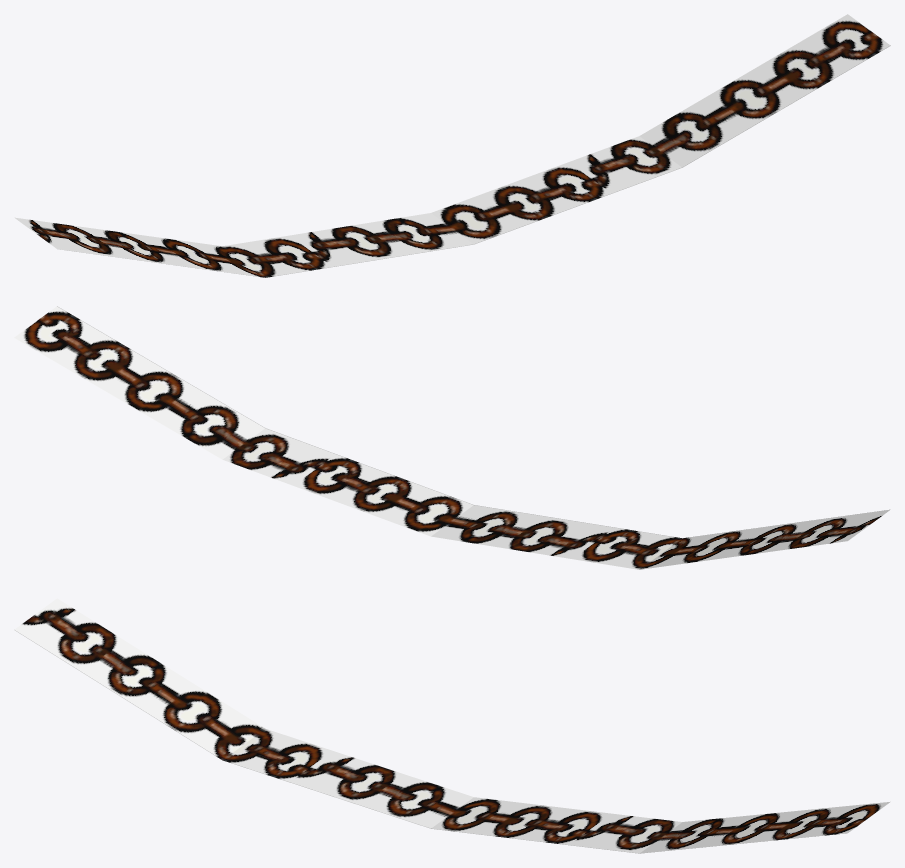
File: Kette2_1811.glb
3 renders of one model, top to bottom at view 1: azimuth 30°, elevation 25°; view 2: azimuth 150°, elevation 25°; view 3: azimuth 330°, elevation 25°, orthographic.
Visible parts, largest first — view 1: pPlaneShape6; view 2: pPlaneShape6; view 3: pPlaneShape6.
Part boxes in pixels (x1,y1,x2,y2): pPlaneShape6: (14, 14, 890, 277); pPlaneShape6: (14, 306, 890, 569); pPlaneShape6: (14, 598, 890, 853).
Size of the model in its own units: 0.5 by 0.0557 by 0.0449.
Materials: 1 (1 with a texture image).
